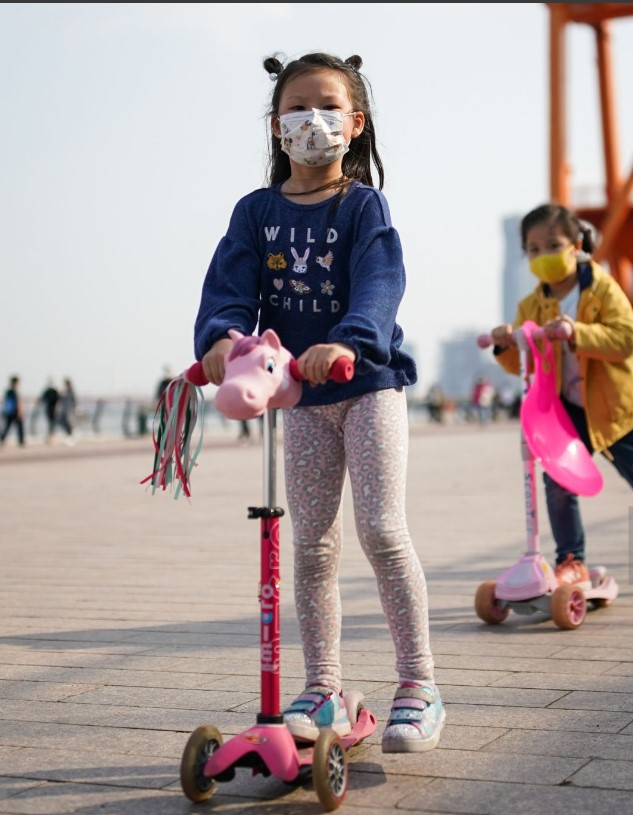face_with_mask: (274, 59, 365, 169), (523, 206, 581, 283)
